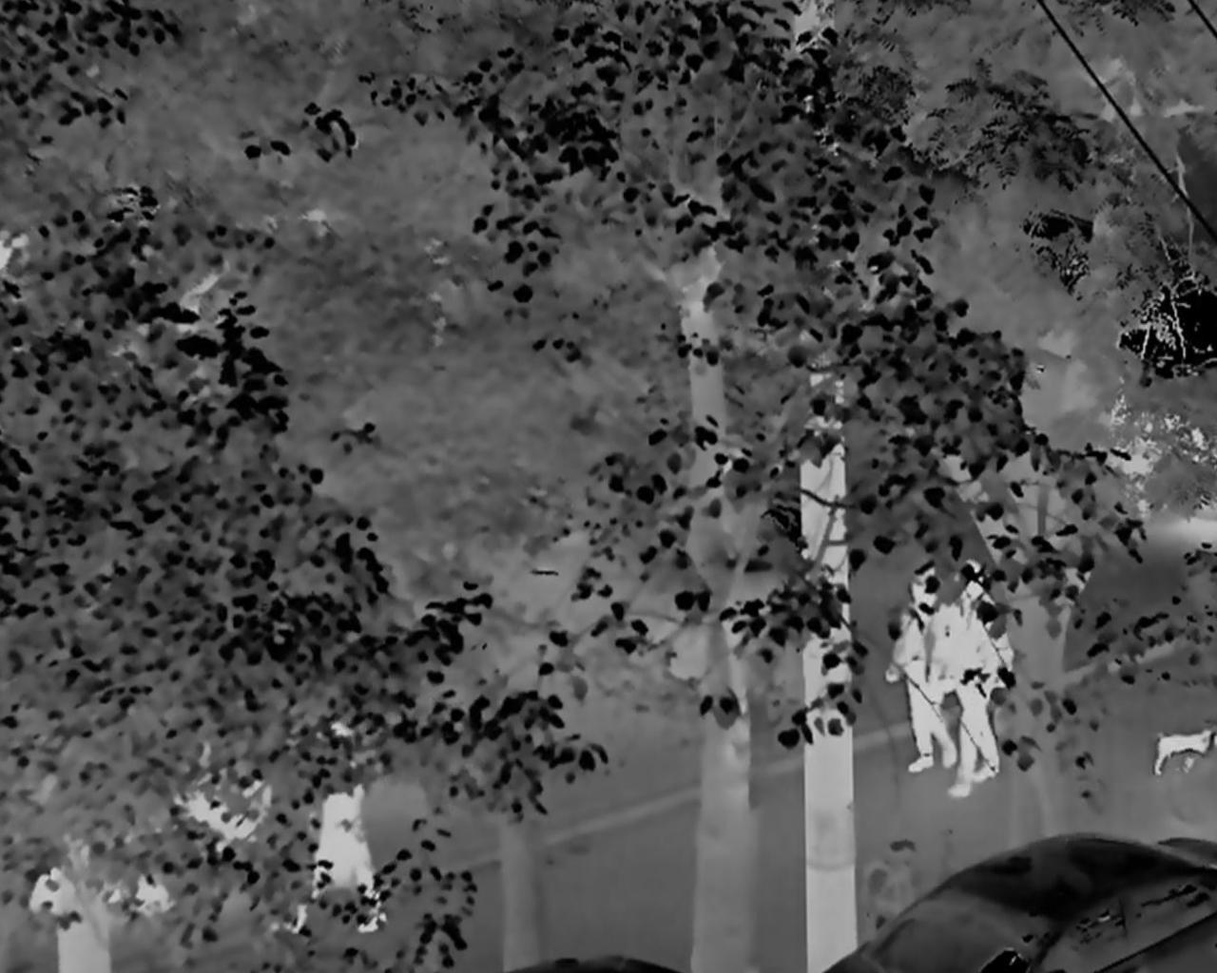person: (944, 559, 1012, 803), (894, 567, 954, 769)
